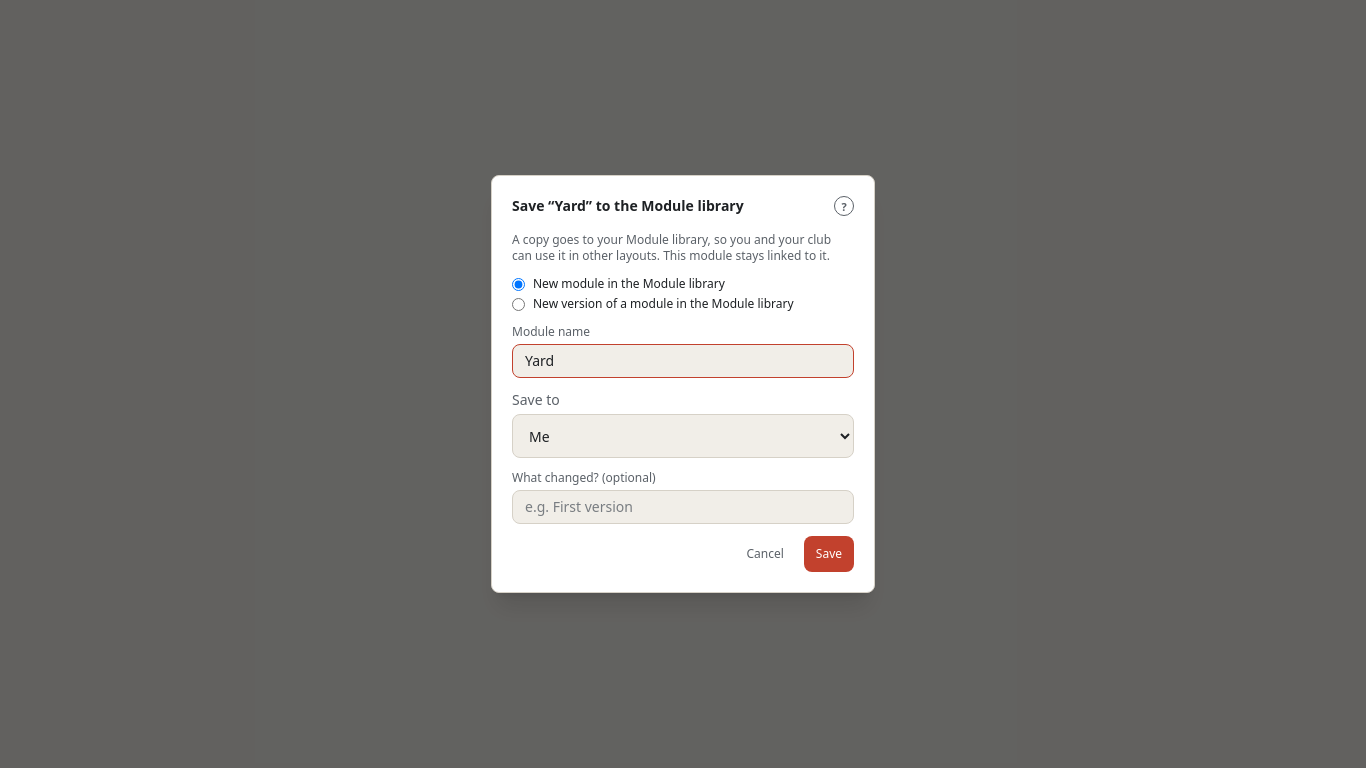
Test: Save to Module library… › removes the new library module again when its contents can't be saved, and doesn't link
The width and height of the screenshot is (1366, 768).
Expected: the dropdown is shown, left=512, top=414, right=854, bottom=458
Click the button "Save". click: (829, 554)
box: left=804, top=536, right=854, bottom=572
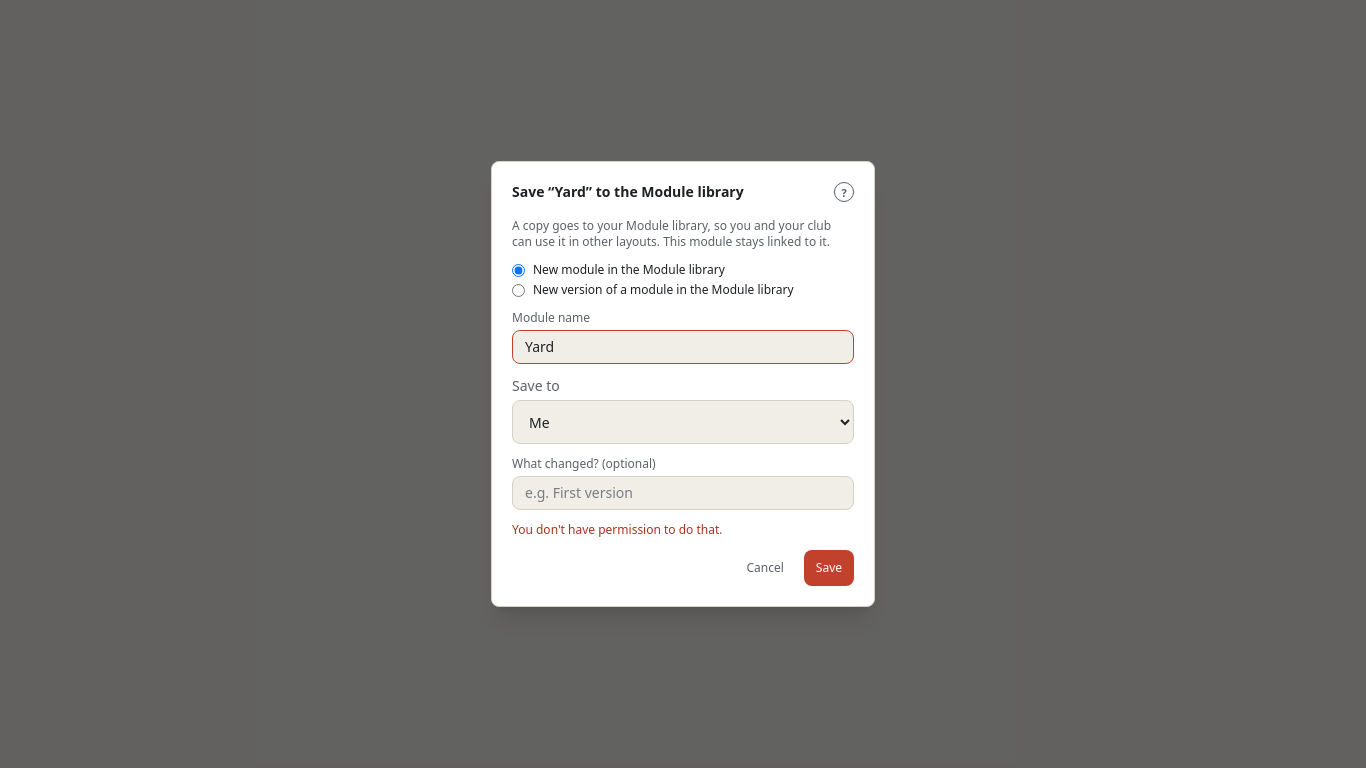
Expected: the text "You don't have permission to do that." is shown, left=512, top=521, right=722, bottom=538
